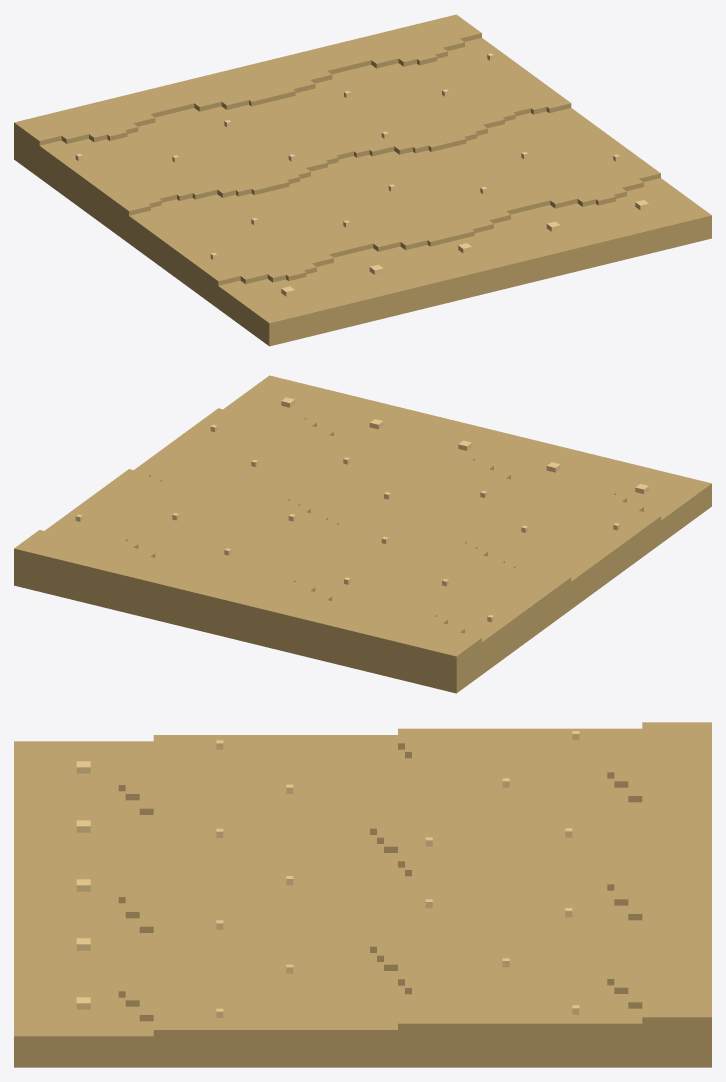
File: Background_C_L_floor_01.FBX
3 views of the same model, one above another, from view 1: azimuth 30°, elevation 25°; view 2: azimuth 150°, elevation 25°; view 3: azimuth 270°, elevation 25° (orthographic). The views are drawn at different scales.
Visible parts, largest first — view 1: Background_C-27; view 2: Background_C-27; view 3: Background_C-27.
Boxes of the visible parts, box(x1,y1,x2,y2) form: Background_C-27: box(14, 14, 711, 346); Background_C-27: box(14, 375, 711, 693); Background_C-27: box(14, 722, 711, 1067).
Size of the model in its own units: 10 by 0.8 by 10.
Materials: 1 (1 with a texture image).
